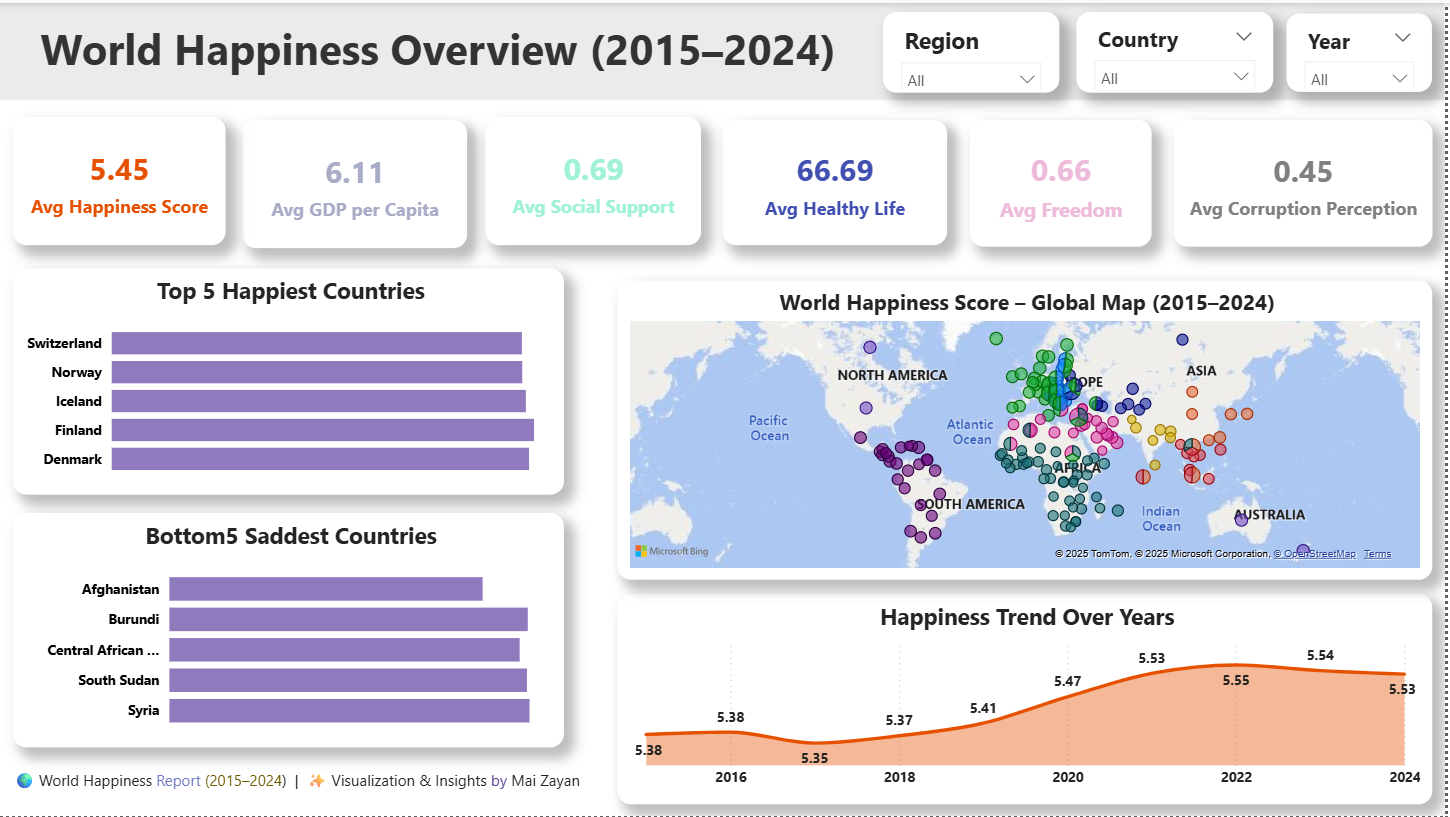

The page's visual inventory and layout, read from the dashboard file:
{"tool":"powerbi","page":{"name":"🌍 Overview","canvas":[1280,720],"ordinal":0},"visuals":[{"type":"card","fields":{"Values":["Measure_Table.Avg GDP per Capita"]},"box":[216.5,103,198.4,113.6],"z":0},{"type":"card","fields":{"Values":["Measure_Table.Avg Healthy Life"]},"box":[640.5,103,198.4,110.5],"z":1000},{"type":"card","fields":{"Values":["Measure_Table.Avg Freedom"]},"box":[860.1,103,160.5,112.1],"z":2000},{"type":"card","fields":{"Values":["Measure_Table.Avg Corruption Perception"]},"box":[1040.3,103,228.6,112.1],"z":3000},{"type":"card","fields":{"Values":["Measure_Table.Avg Happiness Score"]},"box":[13.6,101.5,187.8,113.6],"z":4000},{"type":"card","fields":{"Values":["Measure_Table.Avg Social Support"]},"box":[431.5,101.5,190.8,113.6],"z":5000},{"type":"shape","box":[0,0,1279.5,86.3],"z":6000},{"type":"textbox","box":[9.1,9.1,760.1,69.7],"z":7000},{"type":"lineChart","title":" Happiness Trend Over Years","fields":{"Category":["Fact_Happiness.Year"],"Y":["Measure_Table.Avg Happiness Score"]},"box":[548.1,522.4,720.8,186.2],"z":8000},{"type":"barChart","title":"Top 5 Happiest Countries","fields":{"Category":["Fact_Happiness.Country"],"Y":["Measure_Table.Avg Happiness Score"]},"box":[13.6,234.7,487.6,199.9],"z":9000},{"type":"clusteredBarChart","title":"Bottom5 Saddest Countries","fields":{"Category":["Fact_Happiness.Country"],"Y":["Measure_Table.Avg Happiness Score"]},"box":[13.6,451.2,487.6,207.4],"z":10000},{"type":"slicer","fields":{"Values":["Fact_Happiness.Regional_indicator"]},"box":[782.8,7.6,156,71.2],"z":11000},{"type":"slicer","fields":{"Values":["Fact_Happiness.Country"]},"box":[953.9,7.6,174.1,71.2],"z":12000},{"type":"slicer","fields":{"Values":["Fact_Egypt.Year"]},"box":[1140.2,9.1,128.7,69.7],"z":13000},{"type":"map","title":"World Happiness Score – Global Map (2015–2024)","fields":{"Category":["Fact_Happiness.Country"],"Series":["Dim_Region.Regional_indicator"],"Size":["Measure_Table.Avg Happiness Score"]},"box":[548.1,245.3,720.8,265],"z":14000},{"type":"textbox","box":[9.1,672.3,522.4,46.9],"z":15000}]}

Visuals, with their boxes in screenshot pixels (x1, y1, x2, y2), scaled from the page's 1280x720 canvas onto the 1450x817 screenshot:
card - Measure_Table.Avg GDP per Capita: {"x1": 245, "y1": 117, "x2": 470, "y2": 246}
card - Measure_Table.Avg Healthy Life: {"x1": 726, "y1": 117, "x2": 950, "y2": 242}
card - Measure_Table.Avg Freedom: {"x1": 974, "y1": 117, "x2": 1156, "y2": 244}
card - Measure_Table.Avg Corruption Perception: {"x1": 1178, "y1": 117, "x2": 1437, "y2": 244}
card - Measure_Table.Avg Happiness Score: {"x1": 15, "y1": 115, "x2": 228, "y2": 244}
card - Measure_Table.Avg Social Support: {"x1": 489, "y1": 115, "x2": 705, "y2": 244}
shape: {"x1": 0, "y1": 0, "x2": 1449, "y2": 98}
textbox: {"x1": 10, "y1": 10, "x2": 871, "y2": 89}
" Happiness Trend Over Years" lineChart: {"x1": 621, "y1": 593, "x2": 1437, "y2": 804}
"Top 5 Happiest Countries" barChart: {"x1": 15, "y1": 266, "x2": 568, "y2": 493}
"Bottom5 Saddest Countries" clusteredBarChart: {"x1": 15, "y1": 512, "x2": 568, "y2": 747}
slicer - Fact_Happiness.Regional_indicator: {"x1": 887, "y1": 9, "x2": 1063, "y2": 89}
slicer - Fact_Happiness.Country: {"x1": 1081, "y1": 9, "x2": 1278, "y2": 89}
slicer - Fact_Egypt.Year: {"x1": 1292, "y1": 10, "x2": 1437, "y2": 89}
"World Happiness Score – Global Map (2015–2024)" map: {"x1": 621, "y1": 278, "x2": 1437, "y2": 579}
textbox: {"x1": 10, "y1": 763, "x2": 602, "y2": 816}
